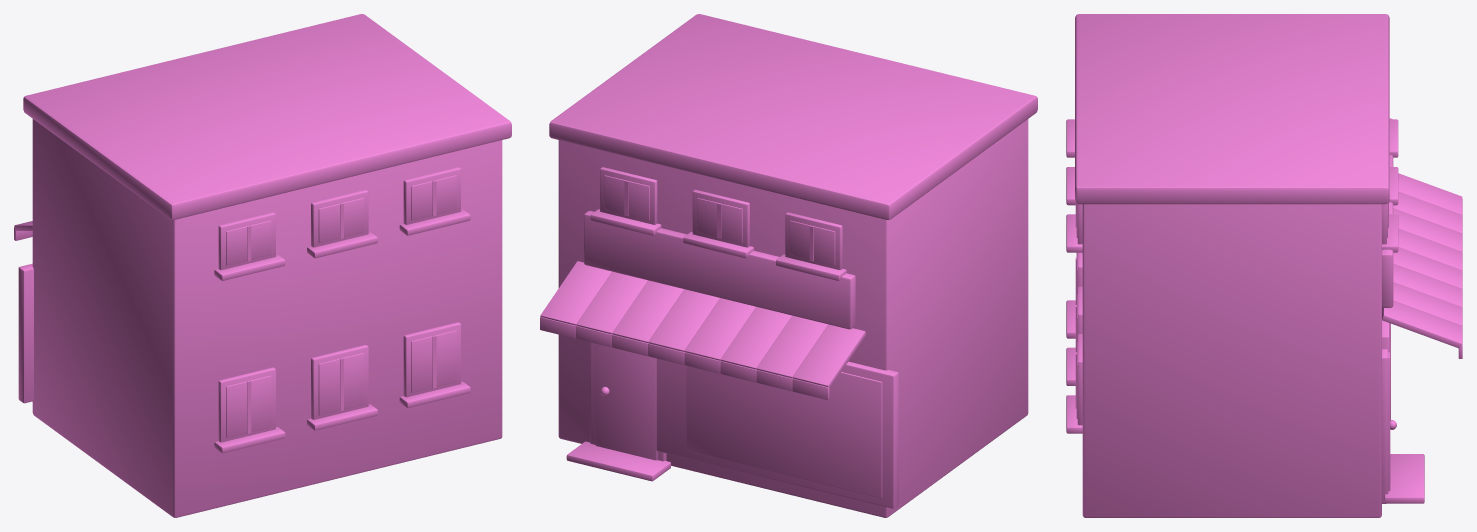
Rendered from OldTown_Shop.fbx.
3 renders of one model, left to right at view 1: azimuth 30°, elevation 25°; view 2: azimuth 150°, elevation 25°; view 3: azimuth 270°, elevation 25°, orthographic. The views are drawn at different scales.
Parts seen in each view (by area): view 1: Paint, Body; view 2: Body, Paint; view 3: Paint, Body.
Boxes of the visible parts, left/top/right/bottom form: Paint: left=32, top=119, right=502, bottom=517; Body: left=14, top=14, right=511, bottom=453; Body: left=540, top=14, right=1037, bottom=508; Paint: left=558, top=119, right=1028, bottom=517; Paint: left=1082, top=204, right=1381, bottom=517; Body: left=1066, top=14, right=1462, bottom=503.
Size of the model in its own units: 16.8 by 14.95 by 15.87.
Materials: 1 (1 with a texture image).
